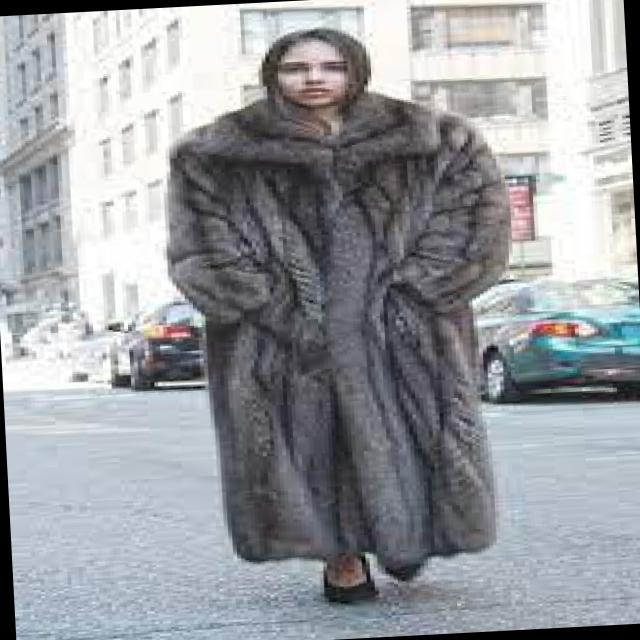Jacket: (160, 81, 542, 542)
